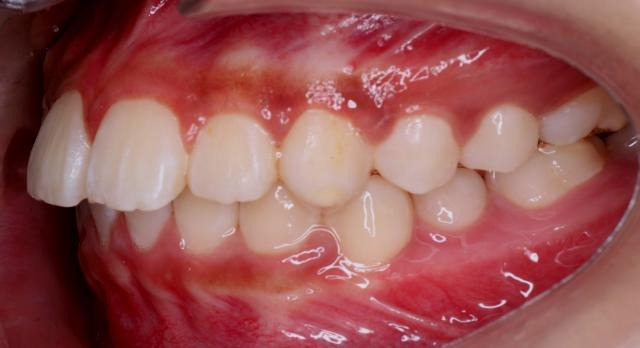canine class I: (237, 108, 418, 274)
molar class III 1/2: (482, 80, 630, 210)
